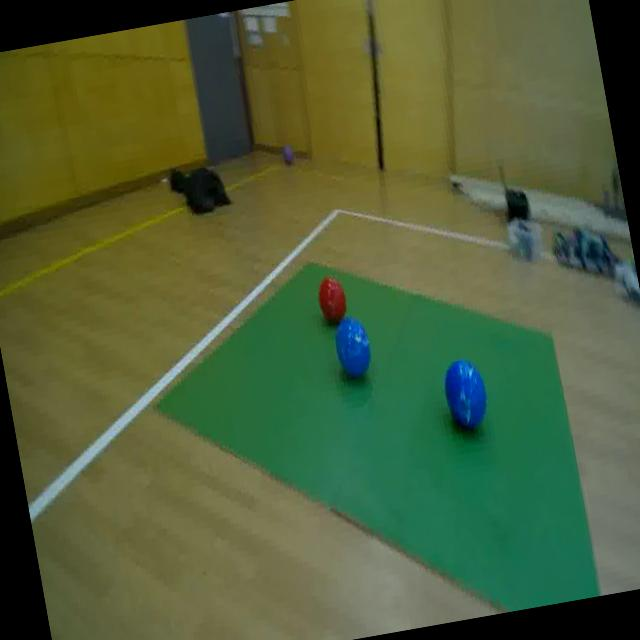blue_ball: (438, 354, 494, 439), (331, 313, 377, 385)
purple_ball: (279, 142, 296, 170)
red_ball: (313, 271, 352, 326)
